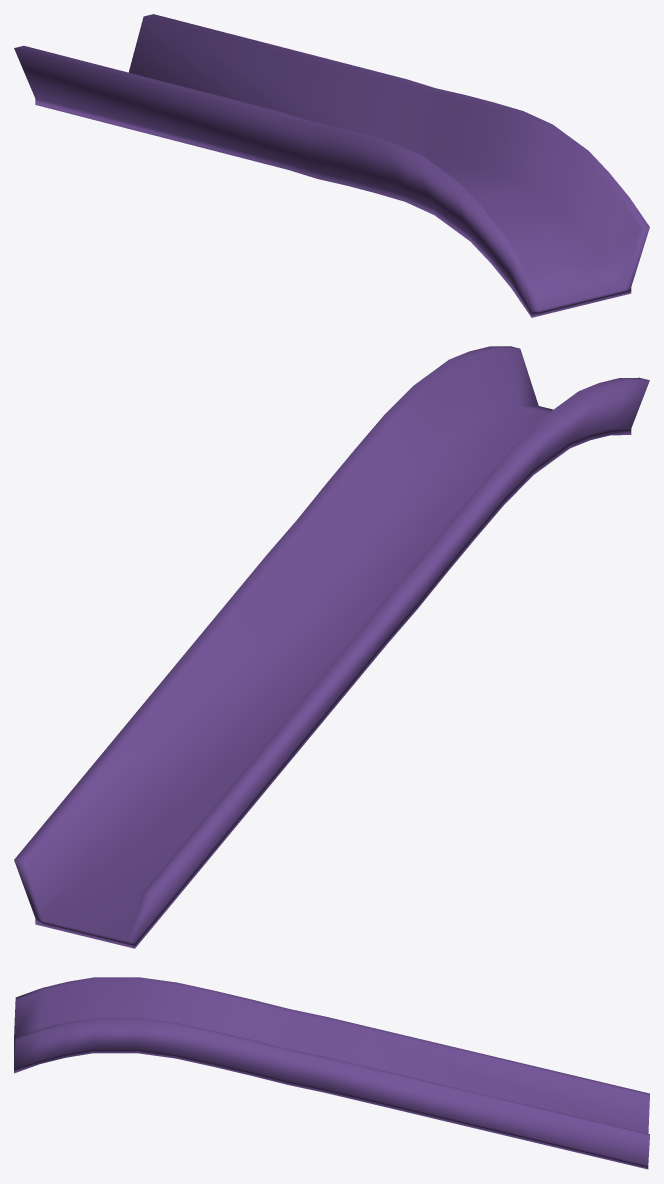
The model's file is SocialWorldBridge.glb.
3 views of the same model, one above another, from view 1: azimuth 30°, elevation 25°; view 2: azimuth 150°, elevation 25°; view 3: azimuth 270°, elevation 25° (orthographic). The views are drawn at different scales.
Parts seen in each view (by area): view 1: Cube; view 2: Cube; view 3: Cube.
Part boxes in pixels (box(x1,y1,x2,y2)): Cube: box(14, 14, 649, 317); Cube: box(14, 346, 649, 948); Cube: box(14, 977, 649, 1169).
Bounding box in the file's own units: 4.47 × 7.42 × 27.63.
